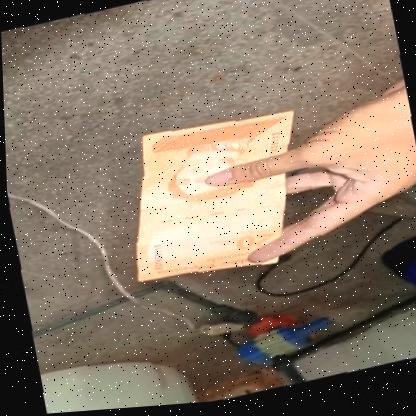twenty-front-vef: (107, 102, 319, 299)
